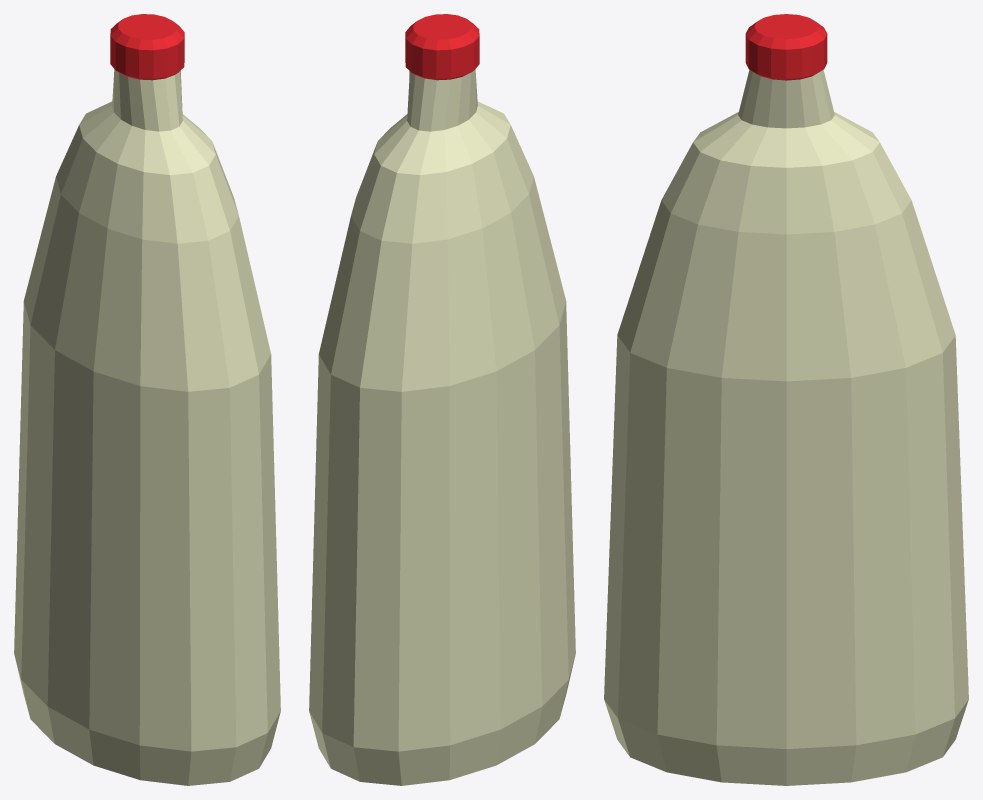
Rendered from Foam.fbx.
3 views of the same model, side by side, from view 1: azimuth 30°, elevation 25°; view 2: azimuth 150°, elevation 25°; view 3: azimuth 270°, elevation 25° (orthographic). The views are drawn at different scales.
Parts seen in each view (by area): view 1: Cylinder.003; view 2: Cylinder.003; view 3: Cylinder.003.
Boxes of the visible parts, left/top/right/bottom form: Cylinder.003: left=14, top=14, right=280, bottom=785; Cylinder.003: left=309, top=14, right=575, bottom=785; Cylinder.003: left=604, top=14, right=968, bottom=785.
Size of the model in its own units: 17.49 by 58.17 by 26.98.
